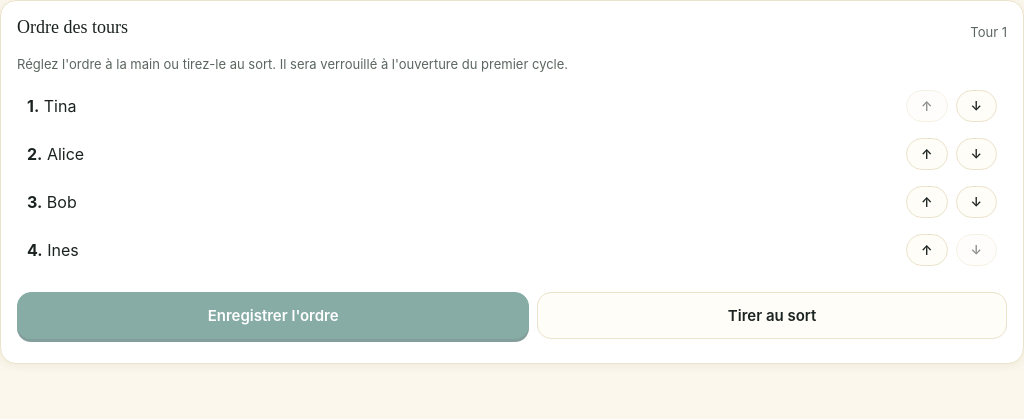
Test: onglet Tours › refus de la base : message affiché
Click the button named "Descendre Tina". click: point(976, 106)
box: [956,90,997,122]
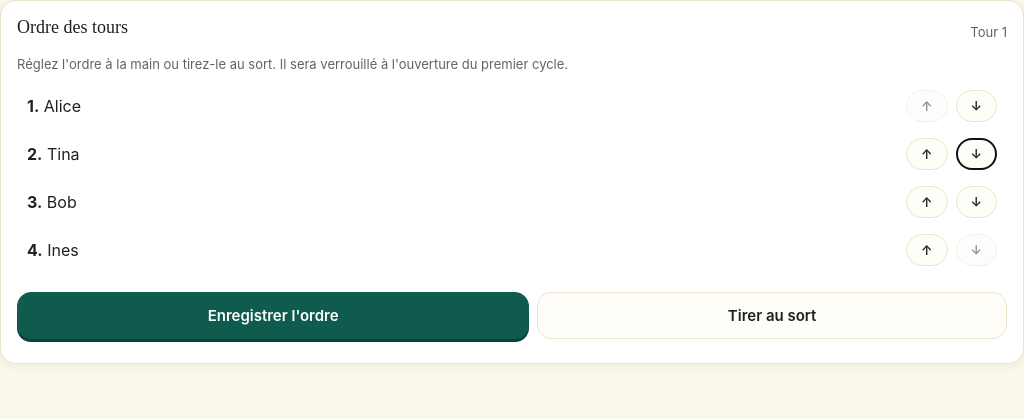
Click the button "Enregistrer l'ordre". click: point(273, 316)
box: [17,292,529,339]
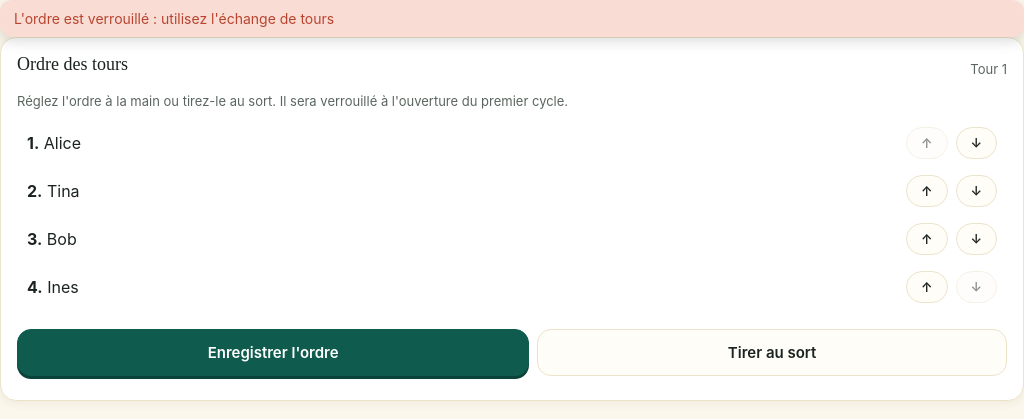
expect the message shows "verrouillé": met, box [14,10,334,27]
